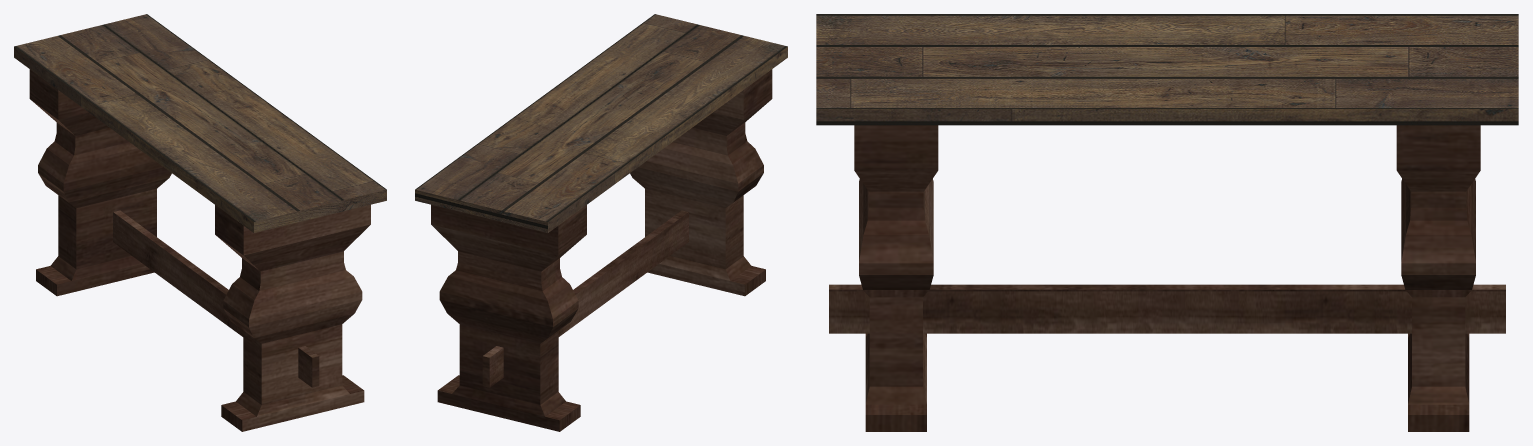
Rendered from Medieval table 1.gltf.
The picture shows the model from 3 angles, left to right: view 1: azimuth 30°, elevation 25°; view 2: azimuth 150°, elevation 25°; view 3: azimuth 270°, elevation 25°; orthographic projection. The views are drawn at different scales.
Parts seen in each view (by area): view 1: Cube; view 2: Cube; view 3: Cube.
Boxes of the visible parts, <box> form: Cube: <box>14,14,386,431</box>; Cube: <box>415,14,787,431</box>; Cube: <box>816,14,1518,431</box>.
Size of the model in its own units: 5.35 by 8.59 by 16.72.
Materials: 2 (2 with a texture image).
